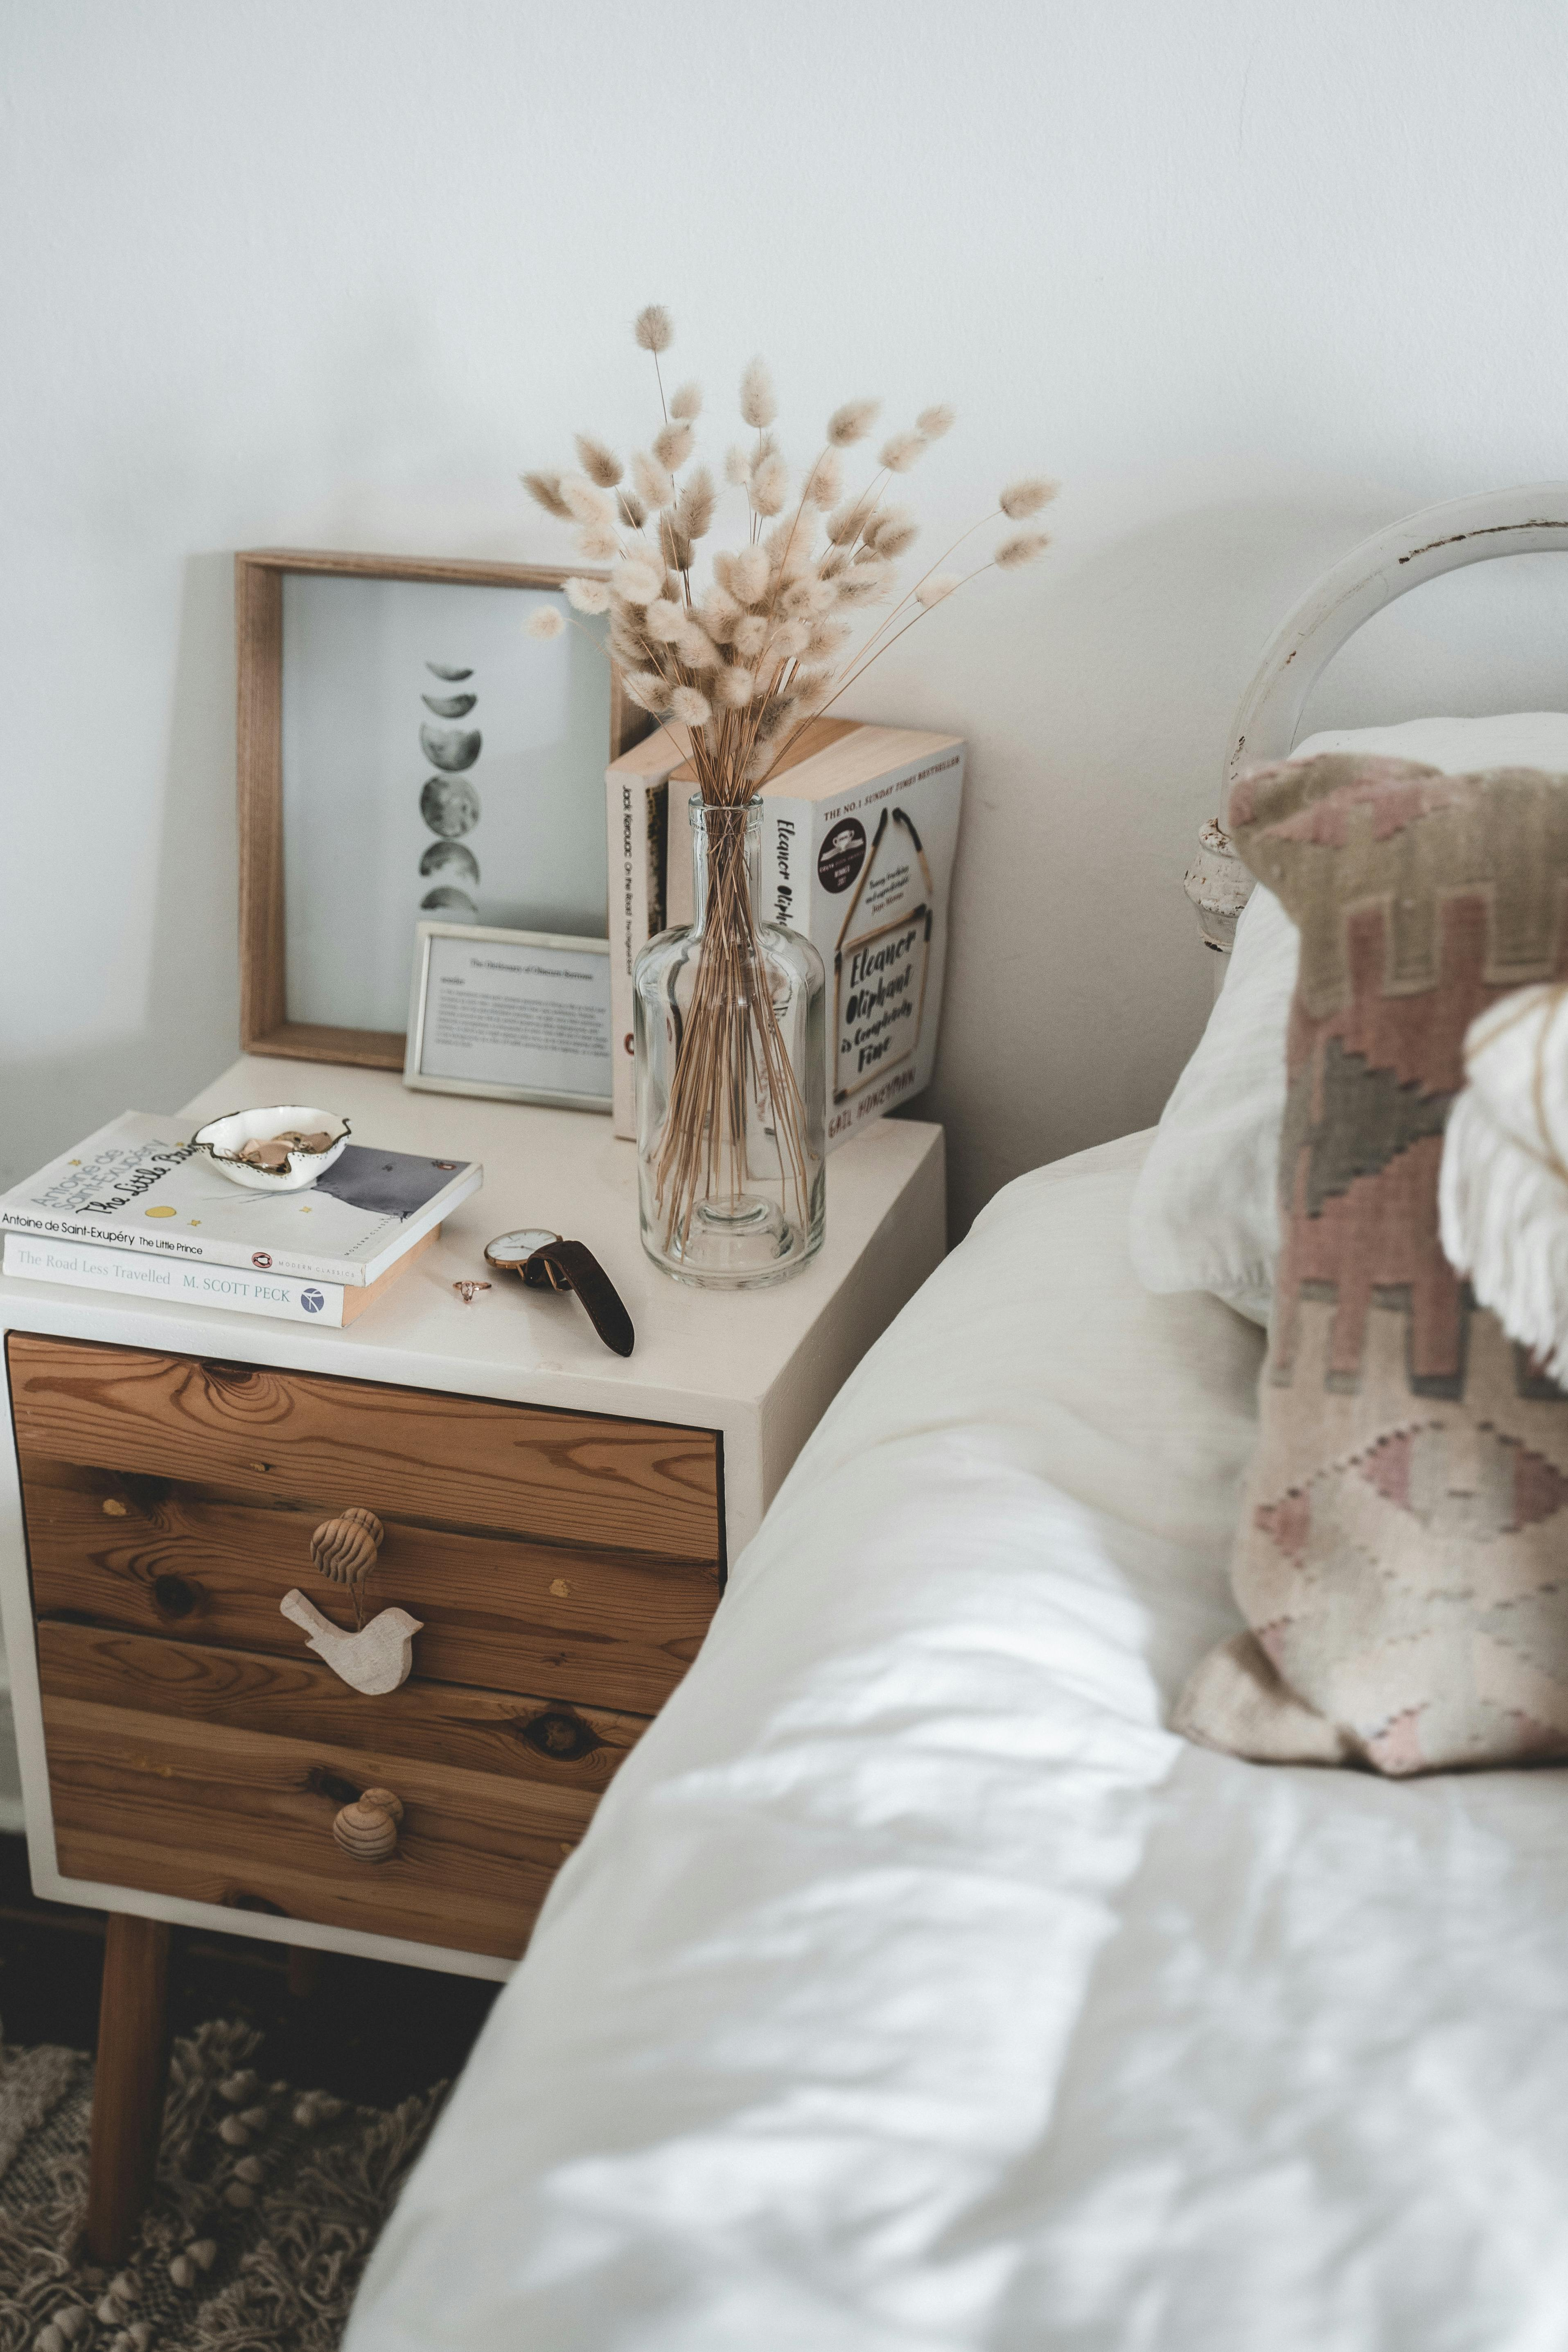book: (38, 1089, 463, 1316)
